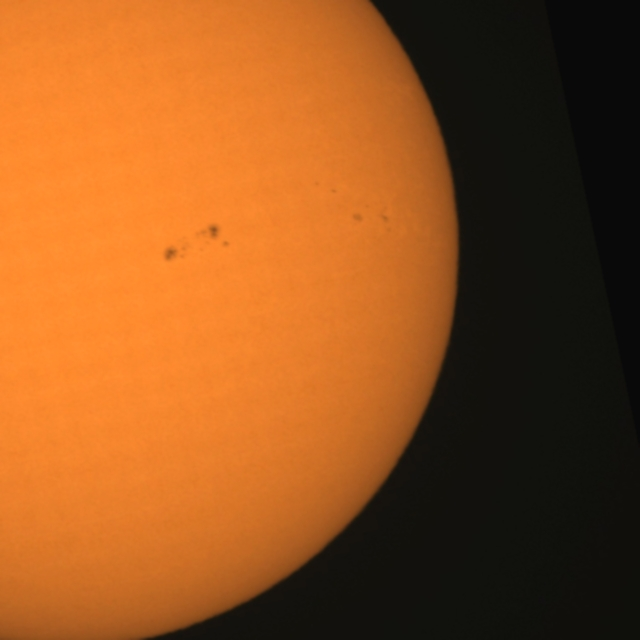sunspot: (159, 221, 234, 263), (188, 222, 231, 253), (350, 203, 393, 232), (162, 243, 188, 265), (313, 180, 338, 195), (379, 212, 393, 235), (350, 210, 365, 226), (329, 186, 338, 195)
